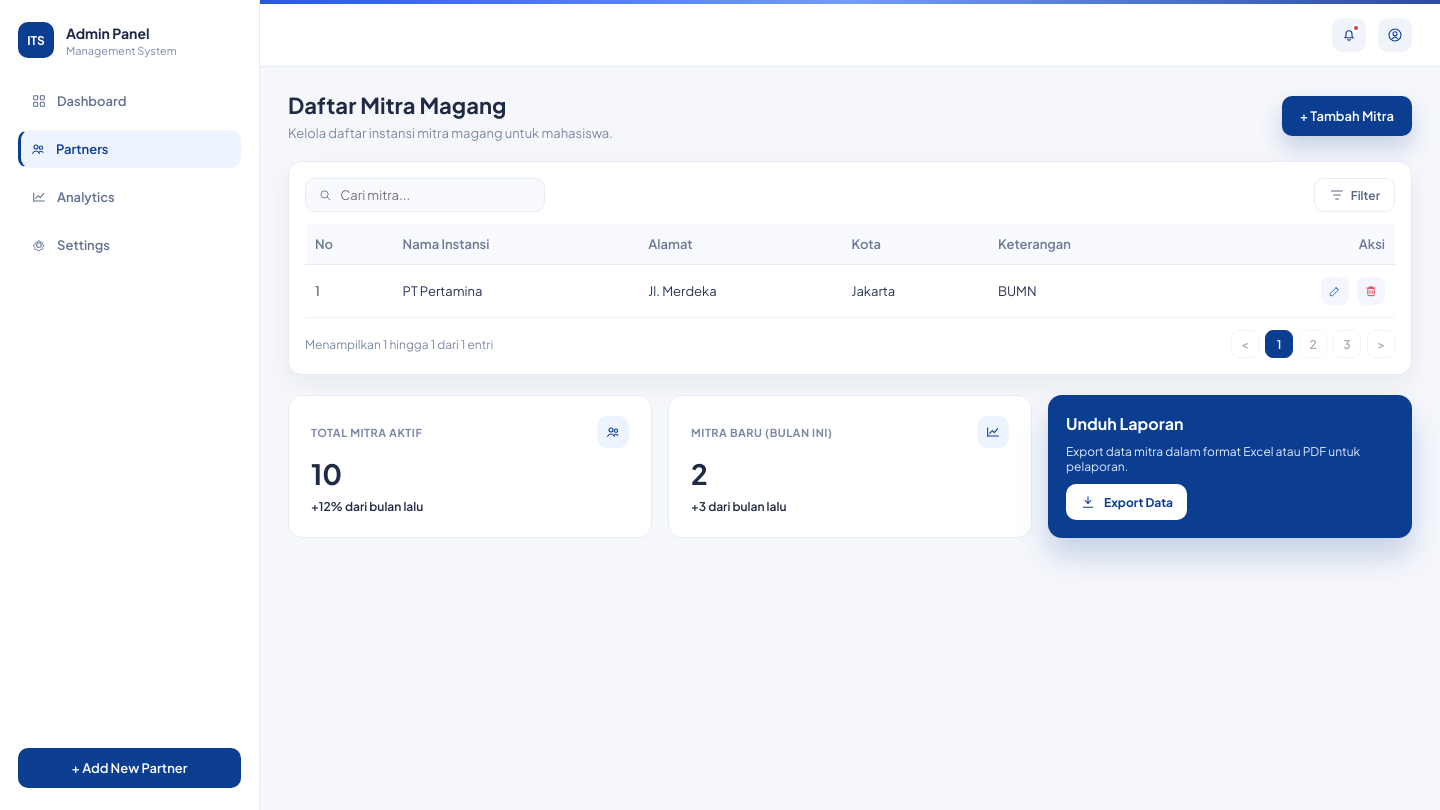
PartnersPage Component › filters partners based on search input
Expected: the text "PT Pertamina" is shown, 393,264 -> 638,318
Type "Unknown Company" into the field with placeholder "Cari mitra..." at (436, 195), box 340,187 -> 532,203
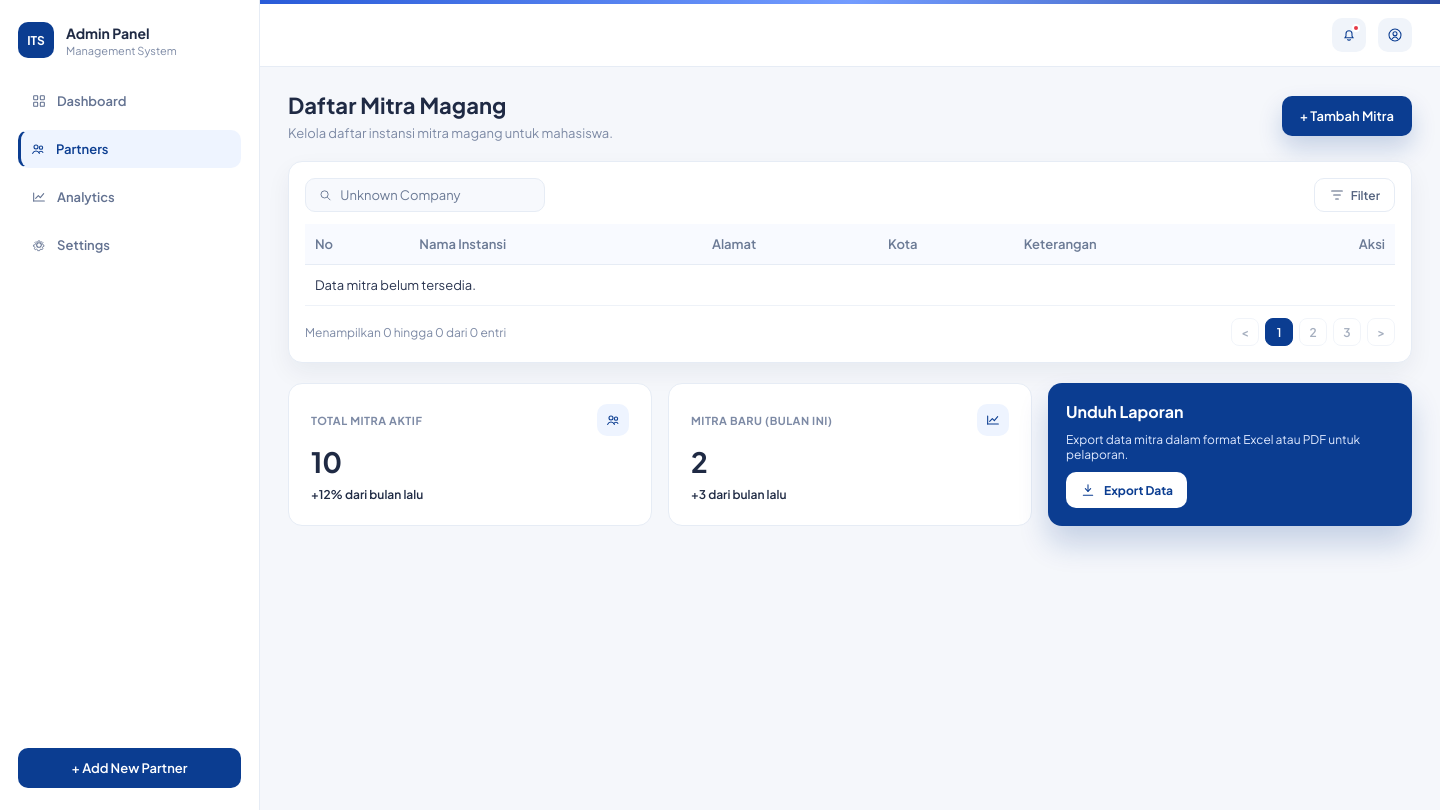
Expected: the text "PT Pertamina" is gone
Expected: the text "Data mitra belum tersedia." is shown, 305,264 -> 1395,306
Replace the text in the field with placeholder "Cari mitra..." with "pertamina" at (436, 195), box 340,187 -> 532,203
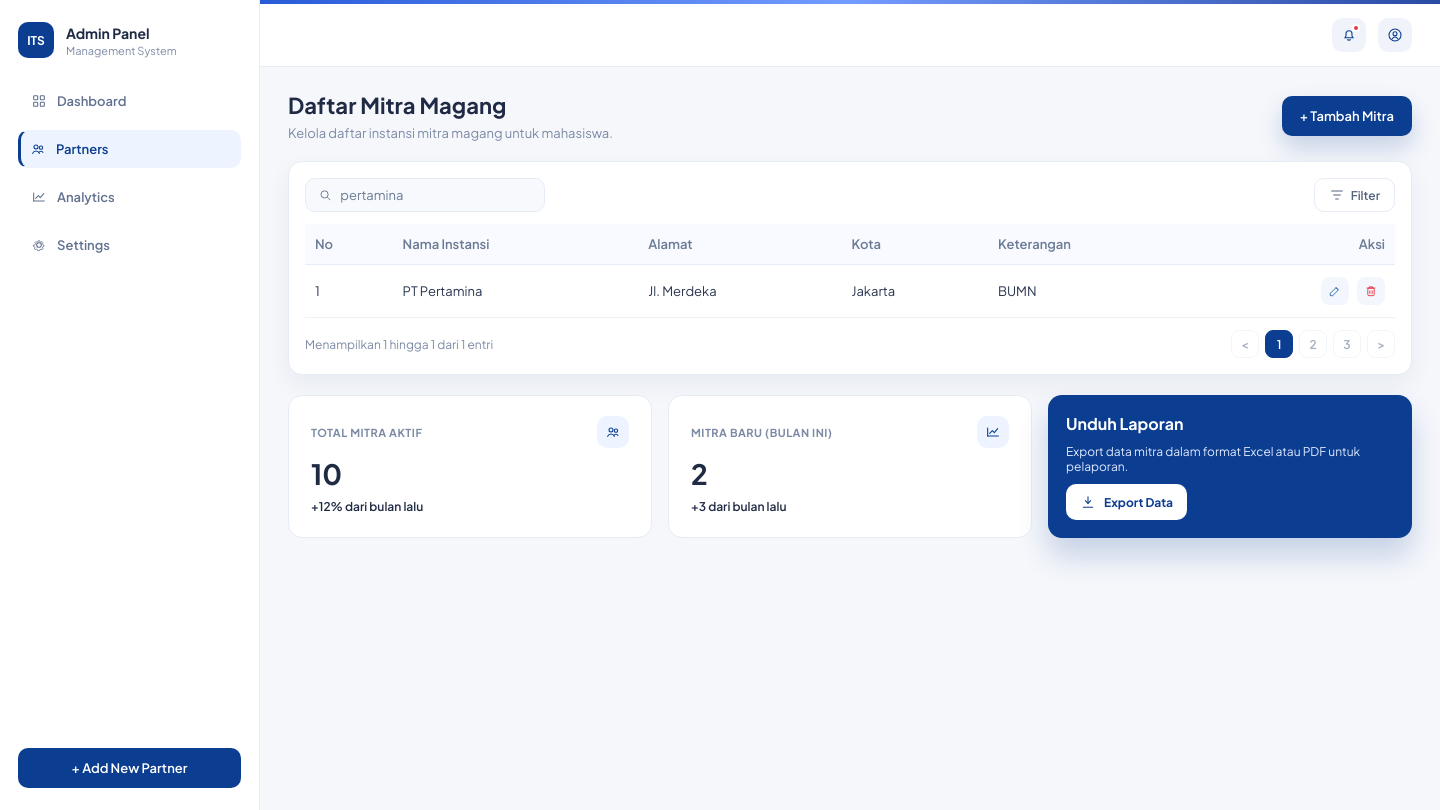
Expected: the text "PT Pertamina" is shown, 393,264 -> 638,318
